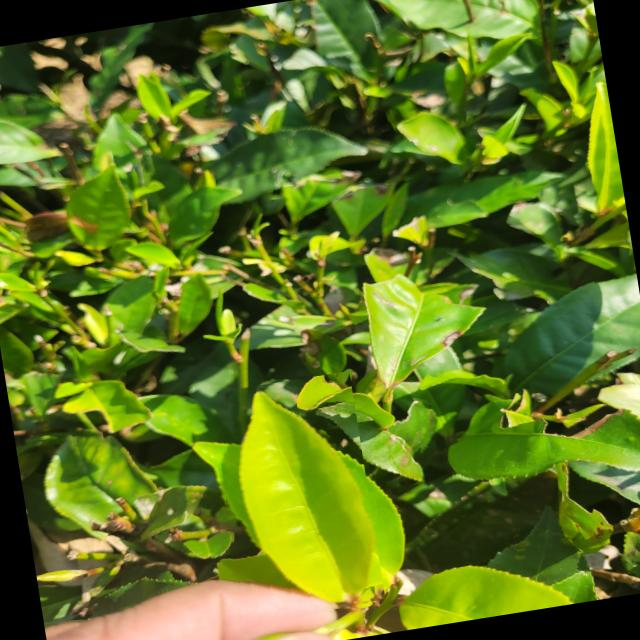Catagory A(1-2 days): (208, 371, 386, 629)
